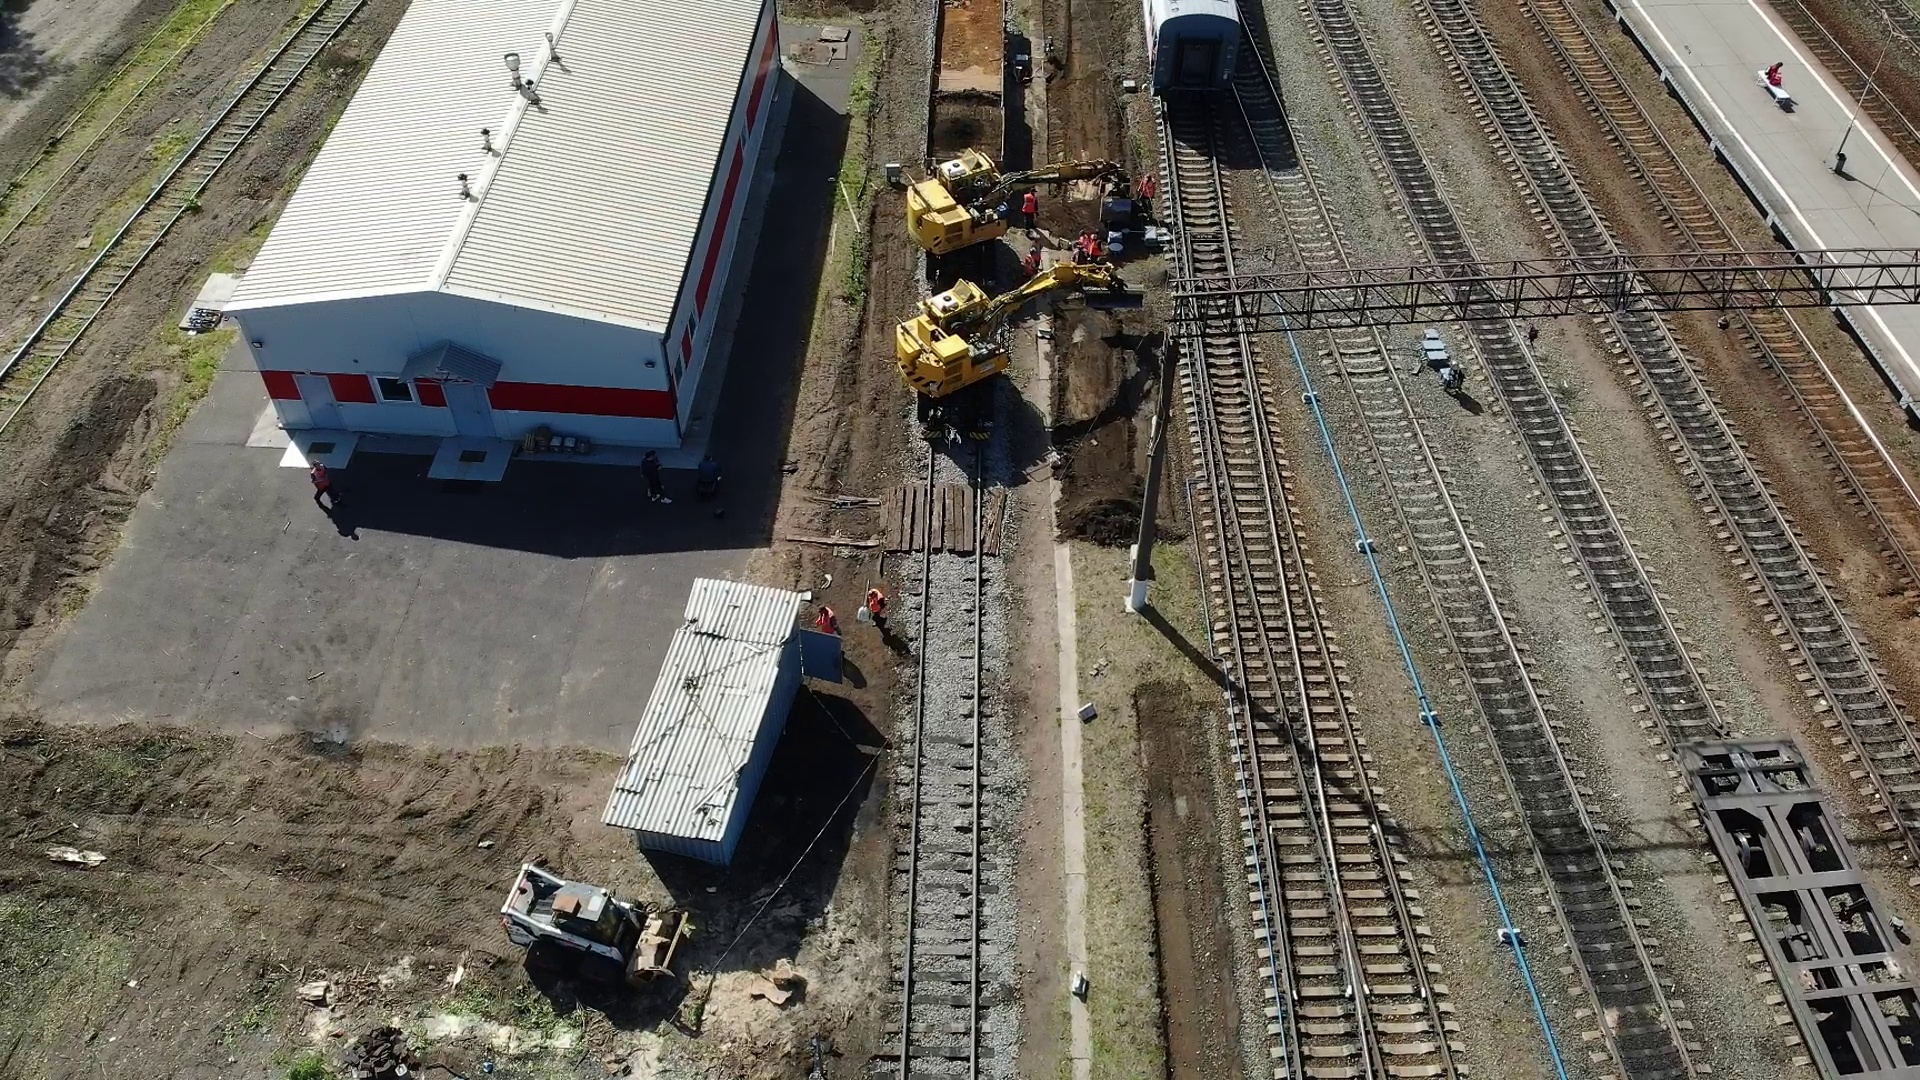kjtv: (899, 273, 1067, 439), (909, 146, 1058, 260)
